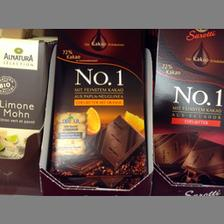Schokolade: (50, 29, 146, 185), (152, 29, 224, 185), (0, 36, 46, 156)
